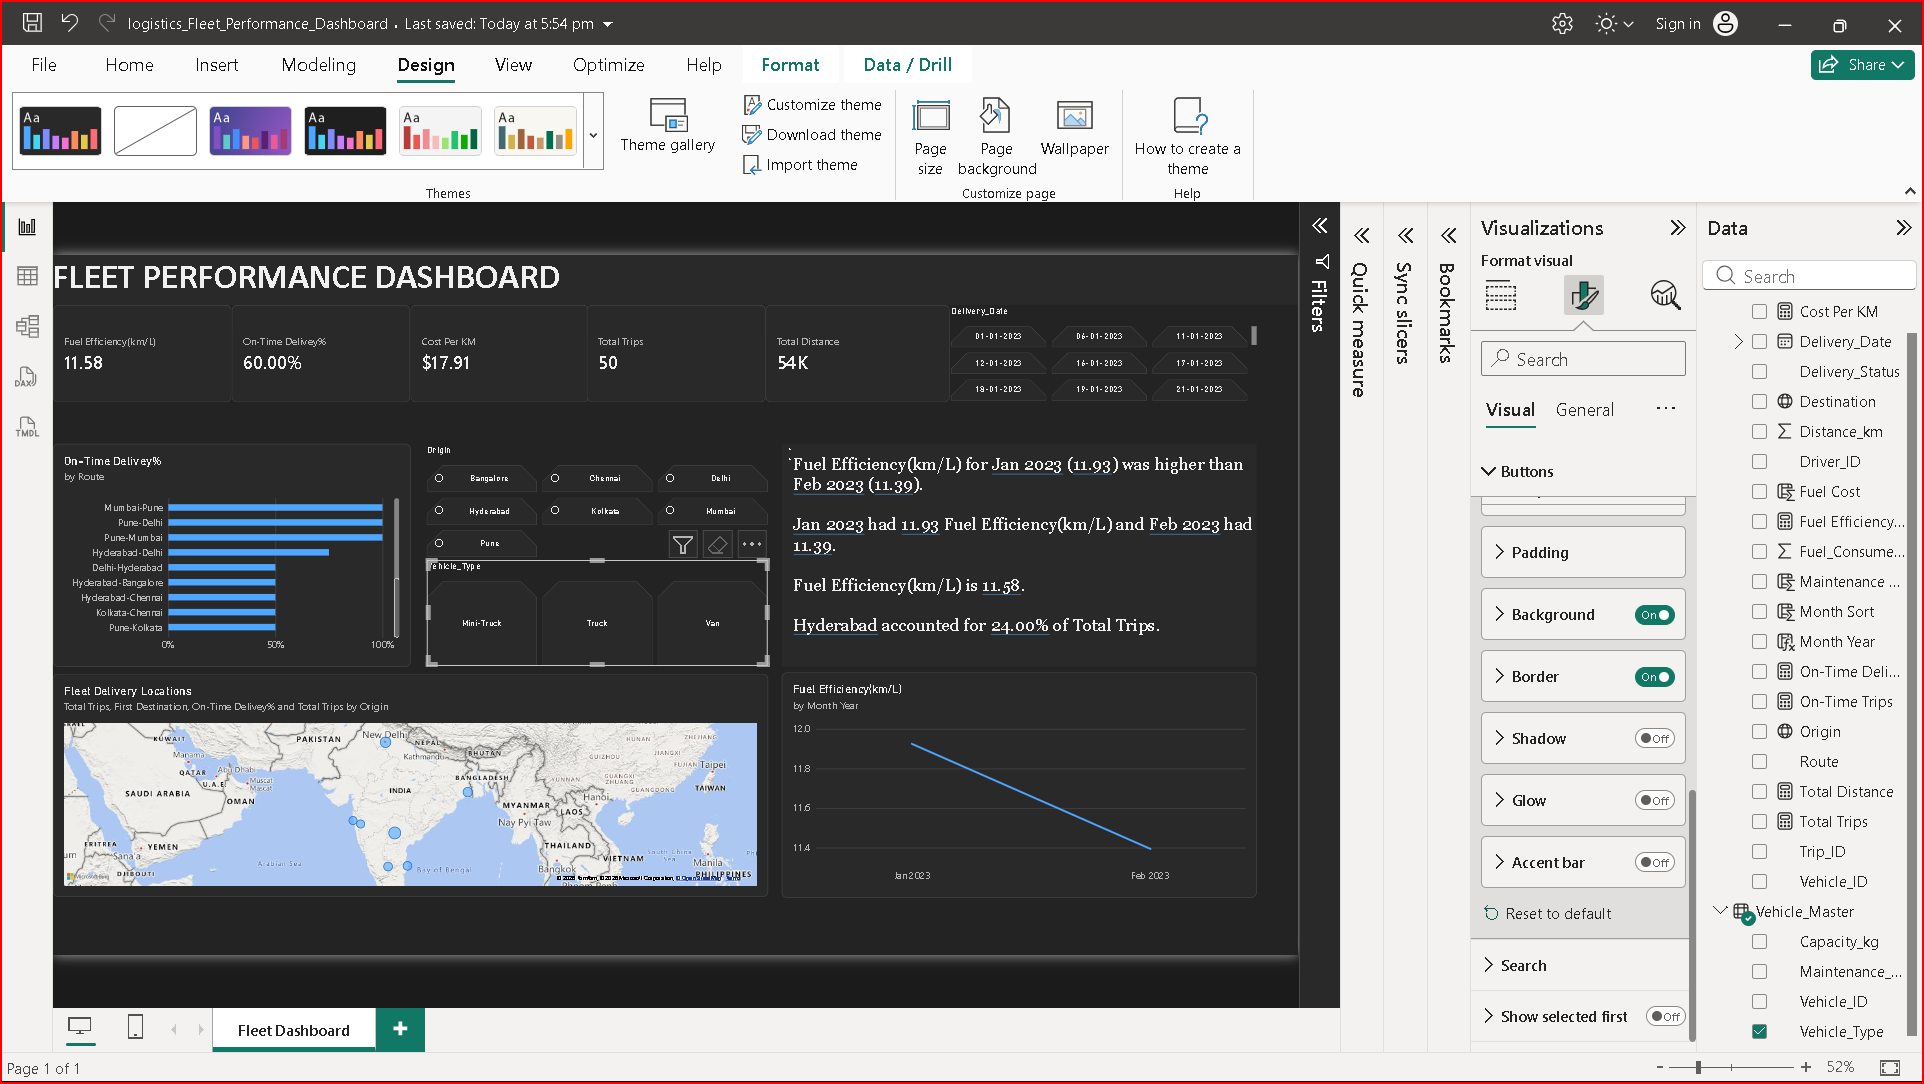

Layout of this report page (visuals, bound fields, positions):
{"tool":"powerbi","page":{"name":"Fleet Dashboard","canvas":[1920,1080],"ordinal":0},"visuals":[{"type":"textbox","box":[0,0,1920.4,76.7],"z":0},{"type":"cardVisual","fields":{"Data":["Trip_Data.Fuel Efficiency(km/L)"]},"box":[0,76.7,275.6,150],"z":1000},{"type":"cardVisual","fields":{"Data":["Trip_Data.On-Time Delivey%"]},"box":[275.6,76.7,275.6,150],"z":2000},{"type":"cardVisual","fields":{"Data":["Trip_Data.Cost Per KM"]},"box":[551.2,76.7,275.6,150],"z":3000},{"type":"cardVisual","fields":{"Data":["Trip_Data.Total Trips"]},"box":[823.3,76.7,276,150],"z":4000},{"type":"clusteredBarChart","fields":{"Category":["Trip_Data.Route"],"Y":["Trip_Data.On-Time Delivey%"]},"box":[0,291.3,551.2,343.6],"z":5000},{"type":"lineChart","fields":{"Category":["Trip_Data.Month Year"],"Y":["Trip_Data.Fuel Efficiency(km/L)"]},"box":[1123.4,643.6,732.2,346.9],"z":6000},{"type":"map","title":"Fleet Delivery Locations","fields":{"Category":["Trip_Data.Origin"],"Size":["Trip_Data.Total Trips"]},"box":[0,644.8,1102.3,344],"z":7000},{"type":"cardVisual","fields":{"Data":["Trip_Data.Total Distance"]},"box":[1098.8,76.7,284.3,150],"z":8000},{"type":"textbox","box":[1123.4,291,732.2,343],"z":9000},{"type":"advancedSlicerVisual","fields":{"Values":["Trip_Data.Delivery_Date"]},"box":[1383.6,77.1,472.1,150.3],"z":10000},{"type":"advancedSlicerVisual","fields":{"Values":["Trip_Data.Origin"]},"box":[576.2,291,526.1,177.3],"z":11000},{"type":"advancedSlicerVisual","fields":{"Values":["Vehicle_Master.Vehicle_Type"]},"box":[576.2,470.2,526.1,163.8],"z":12000}]}

Visuals, with their boxes on the page's 1920x1080 design canvas (x1, y1, x2, y2). These are canvas units, not pixel positions in the 1924x1084 screenshot, which may show the page scaled, cropped or inside an application window:
textbox: bbox=(0, 0, 1920, 77)
cardVisual - Trip_Data.Fuel Efficiency(km/L): bbox=(0, 77, 276, 227)
cardVisual - Trip_Data.On-Time Delivey%: bbox=(276, 77, 551, 227)
cardVisual - Trip_Data.Cost Per KM: bbox=(551, 77, 827, 227)
cardVisual - Trip_Data.Total Trips: bbox=(823, 77, 1099, 227)
clusteredBarChart - Trip_Data.Route x Trip_Data.On-Time Delivey%: bbox=(0, 291, 551, 635)
lineChart - Trip_Data.Month Year x Trip_Data.Fuel Efficiency(km/L): bbox=(1123, 644, 1856, 990)
"Fleet Delivery Locations" map: bbox=(0, 645, 1102, 989)
cardVisual - Trip_Data.Total Distance: bbox=(1099, 77, 1383, 227)
textbox: bbox=(1123, 291, 1856, 634)
advancedSlicerVisual - Trip_Data.Delivery_Date: bbox=(1384, 77, 1856, 227)
advancedSlicerVisual - Trip_Data.Origin: bbox=(576, 291, 1102, 468)
advancedSlicerVisual - Vehicle_Master.Vehicle_Type: bbox=(576, 470, 1102, 634)
